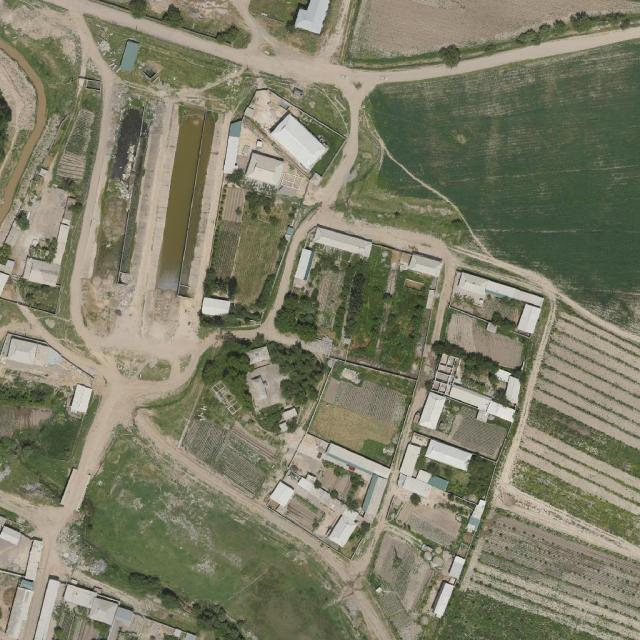agricultural_land: (73, 15, 240, 105), (307, 363, 419, 467), (177, 402, 281, 496), (0, 181, 81, 280), (359, 525, 444, 611), (440, 308, 531, 376), (227, 214, 286, 308), (0, 50, 36, 203), (395, 490, 467, 551), (55, 107, 105, 187), (209, 185, 250, 279), (200, 67, 266, 124), (447, 405, 510, 462), (93, 191, 131, 278), (464, 323, 529, 372), (178, 413, 232, 467), (63, 107, 101, 158), (222, 186, 245, 222), (10, 385, 16, 388)
building: (268, 111, 329, 172), (324, 442, 393, 481), (245, 361, 292, 411), (2, 334, 65, 371), (294, 476, 349, 518), (312, 225, 374, 258), (33, 577, 61, 640), (484, 280, 544, 309), (355, 473, 389, 524), (424, 438, 473, 472), (244, 150, 287, 188), (326, 506, 363, 548), (448, 382, 492, 413), (21, 257, 62, 288), (293, 0, 329, 35), (407, 249, 445, 279), (223, 119, 243, 175), (417, 392, 446, 430), (430, 580, 457, 619), (464, 498, 491, 534), (23, 538, 45, 582), (88, 595, 119, 626), (6, 337, 38, 366), (515, 304, 542, 338), (62, 584, 96, 610), (52, 222, 71, 265), (268, 480, 296, 509), (398, 443, 421, 478), (457, 271, 489, 296), (69, 383, 93, 416), (119, 38, 141, 73), (402, 476, 433, 499), (485, 400, 517, 422), (246, 344, 273, 370), (201, 297, 232, 318), (295, 247, 314, 281), (427, 473, 451, 493), (448, 555, 467, 580), (504, 376, 520, 404), (113, 606, 134, 627), (0, 526, 22, 546), (494, 368, 511, 384), (5, 258, 15, 269)
dryland: (62, 68, 235, 382)
greenland: (328, 242, 437, 374), (0, 371, 101, 512), (256, 49, 365, 136), (140, 364, 222, 445), (197, 338, 274, 410), (266, 328, 334, 409), (271, 290, 325, 343), (110, 106, 146, 183), (192, 599, 250, 640), (160, 3, 187, 29)
metalled_road: (0, 39, 46, 223)
unmetalled_road: (172, 451, 361, 580), (68, 364, 184, 479), (9, 301, 99, 385), (59, 467, 93, 514), (348, 58, 386, 96)
wetland: (154, 106, 217, 297)
